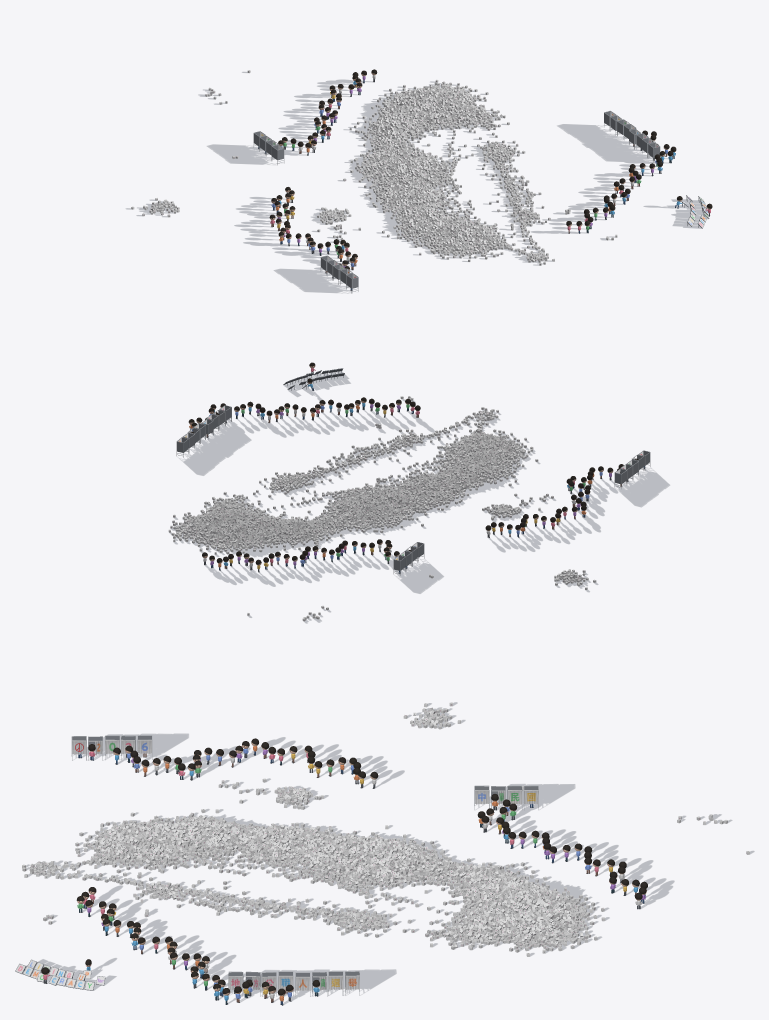
Rendered from ballot-box.glb.
3 views of the same model, one above another, from view 1: azimuth 30°, elevation 25°; view 2: azimuth 150°, elevation 25°; view 3: azimuth 270°, elevation 25° (orthographic). The views are drawn at different scales.
Bounding box in the file's own units: 0.9731 × 0.0401 × 1.
57 materials, 38 textured.
